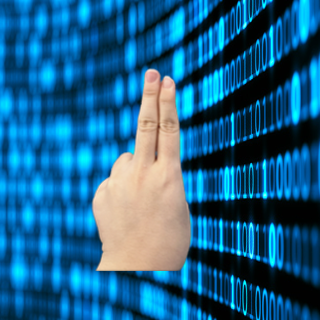DHAVE: (85, 62, 198, 260)
